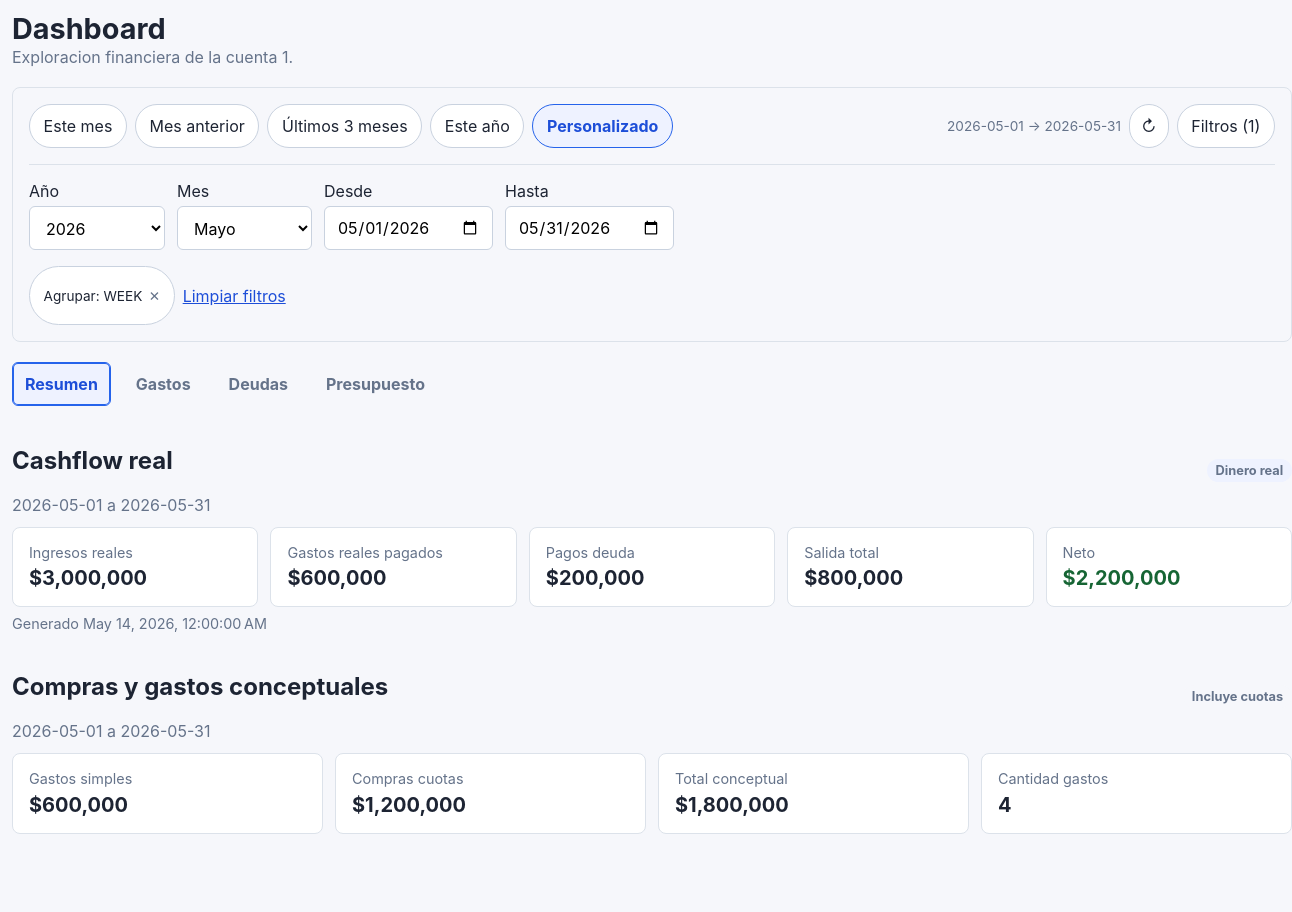
Scenario: DashboardPageComponent › shows monthly budget versus expenses comparison
What coordinates should you click on to do the following:
click the tab "Presupuesto"
I would click on:
 (376, 384)
Its box is [313,362,438,406].
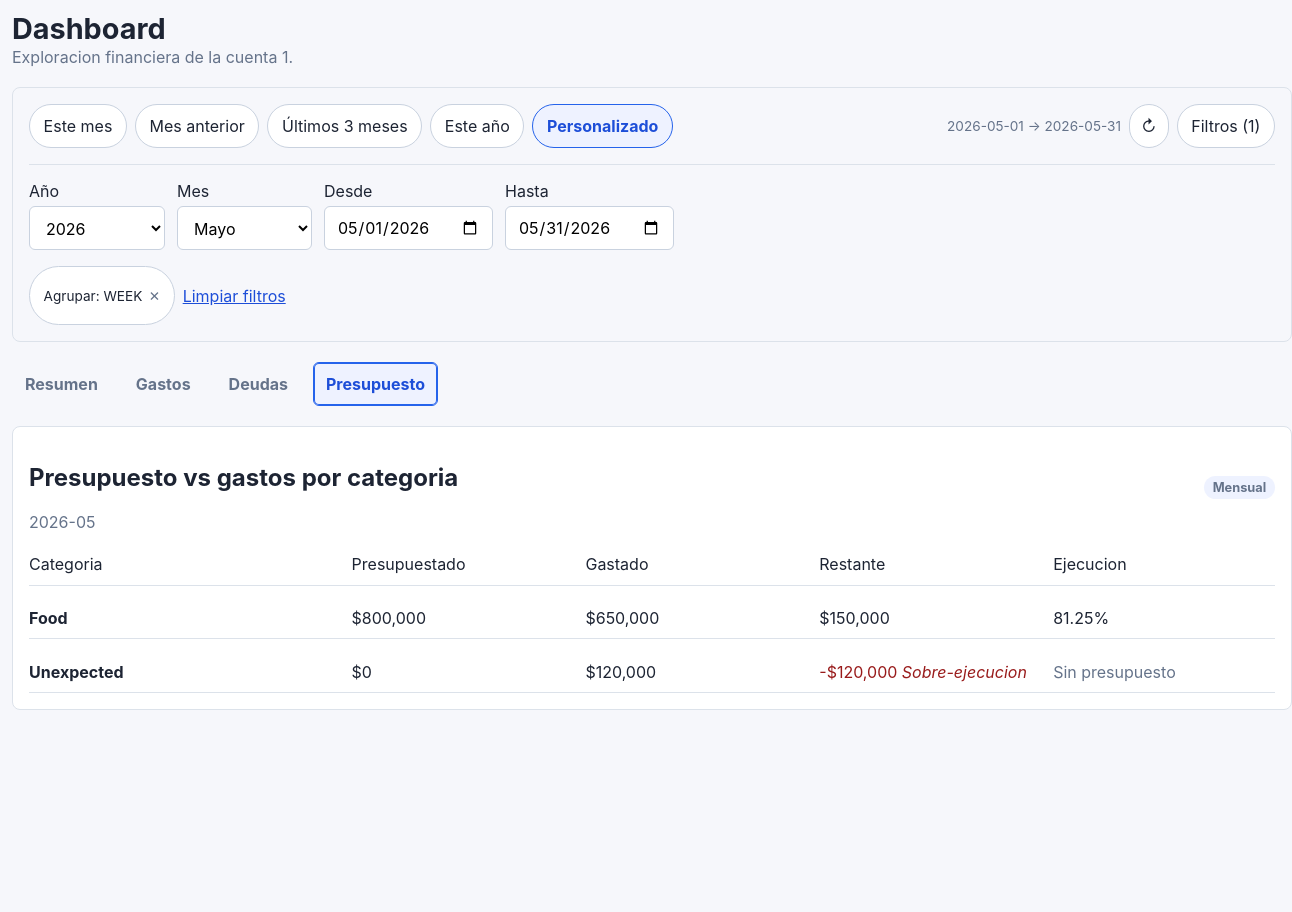
Expected: the text "Presupuesto vs gastos por categoria" is shown, [29,463,458,492]
Expected: the text "Food" is shown, [29,608,68,628]
Expected: the text "Presupuestado" is shown, [352,554,466,574]
